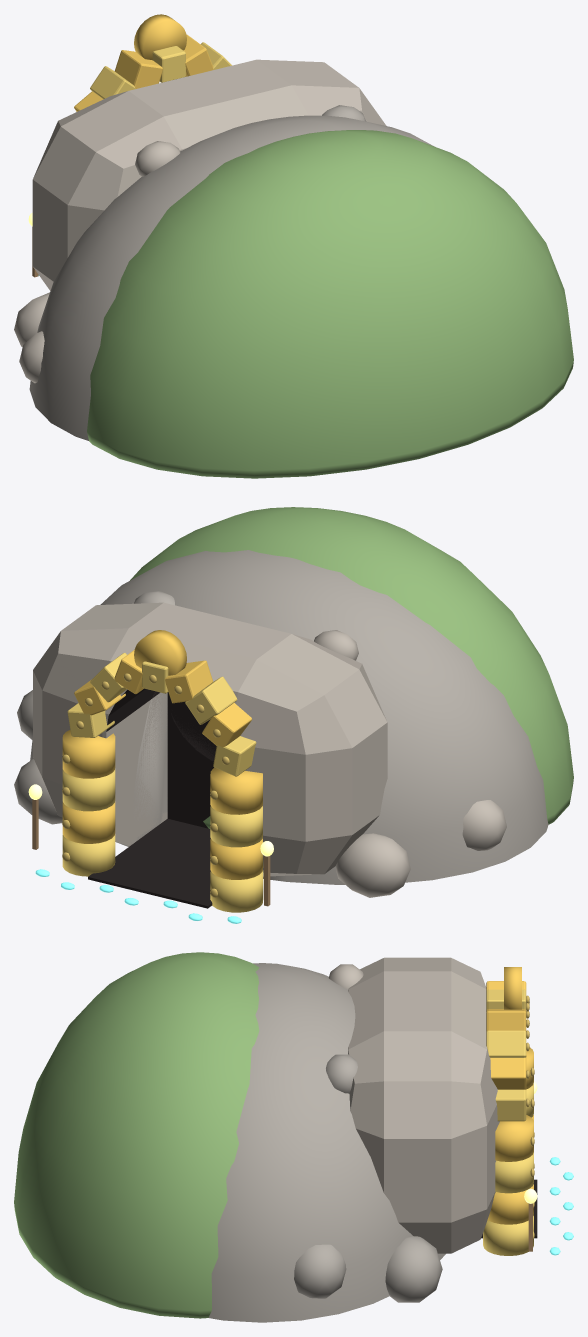
File: world_cheese_cave.glb
The picture shows the model from 3 angles, top to bottom: view 1: azimuth 30°, elevation 25°; view 2: azimuth 150°, elevation 25°; view 3: azimuth 270°, elevation 25°; orthographic projection. The views are drawn at different scales.
Parts seen in each view (by area): view 1: world_cheese_cave; view 2: world_cheese_cave; view 3: world_cheese_cave.
Part boxes in pixels (x1,y1,x2,y2): world_cheese_cave: [14, 14, 573, 478]; world_cheese_cave: [14, 507, 573, 923]; world_cheese_cave: [14, 952, 573, 1322].
Size of the model in its own units: 12.04 by 6.36 by 12.62.
